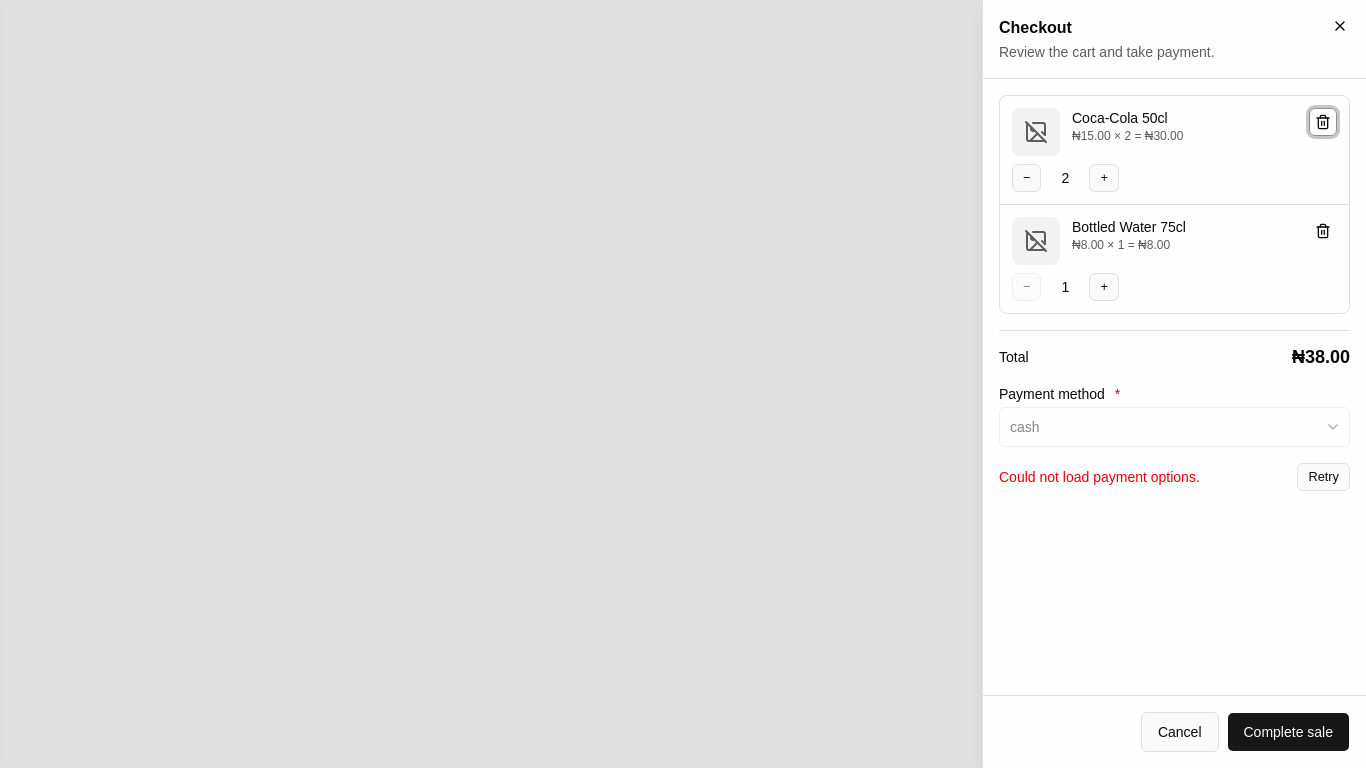
Test: CheckoutDrawer › shows the payment options error and retries
Expected: the text "Could not load payment options." is shown, [999,467,1200,487]
Expected: the dropdown named "Payment method" is disabled, [999,407,1350,447]
Click the button "Retry" at (1324, 477), box [1297,463,1350,491]
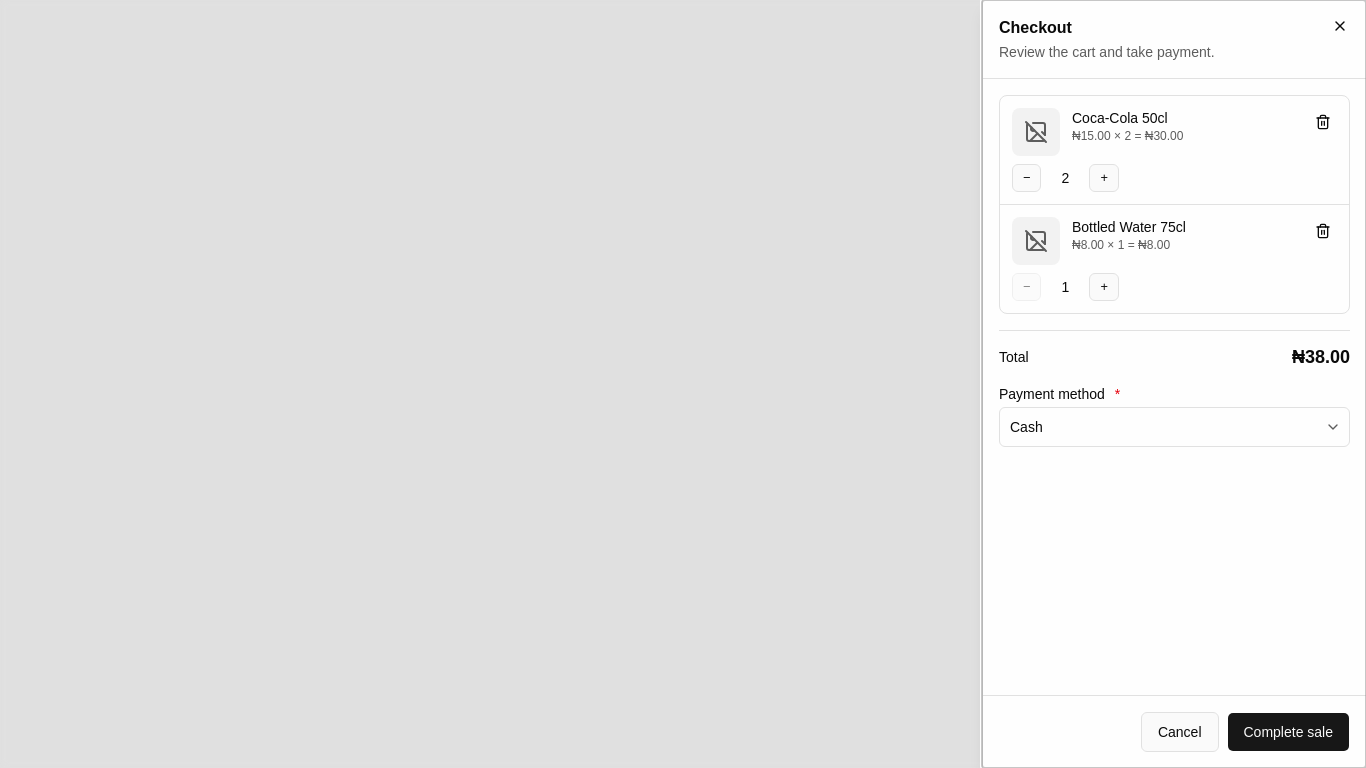
Expected: the dropdown named "Payment method" is enabled, [999,407,1350,447]
